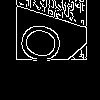O: (16, 19, 74, 70)
